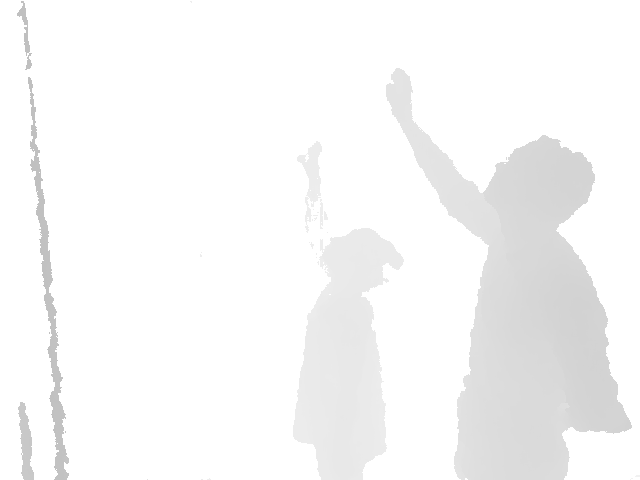hand: (383, 66, 415, 119), (295, 140, 322, 172)
head: (483, 134, 596, 234), (321, 227, 404, 290)
person: (383, 66, 633, 480), (291, 140, 404, 480)
